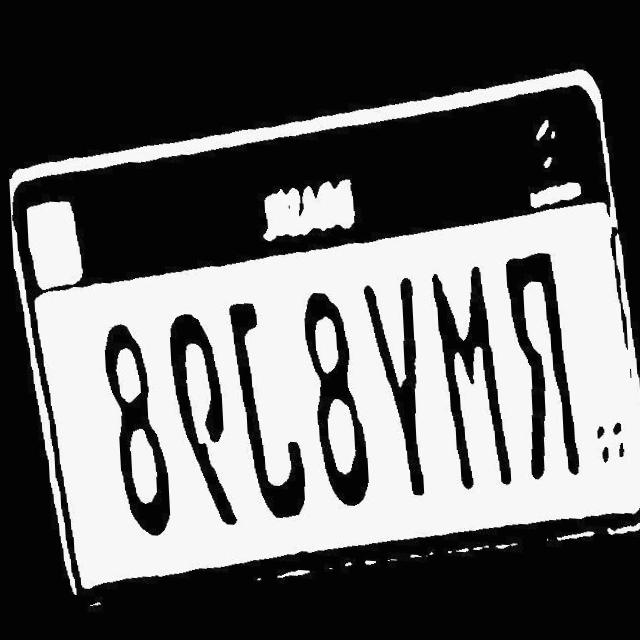8: (94, 319, 167, 537), (296, 284, 366, 510)
9: (164, 307, 236, 528)
j: (223, 297, 303, 521)
m: (424, 255, 510, 486)
r: (502, 234, 578, 476)
y: (357, 268, 424, 499)
